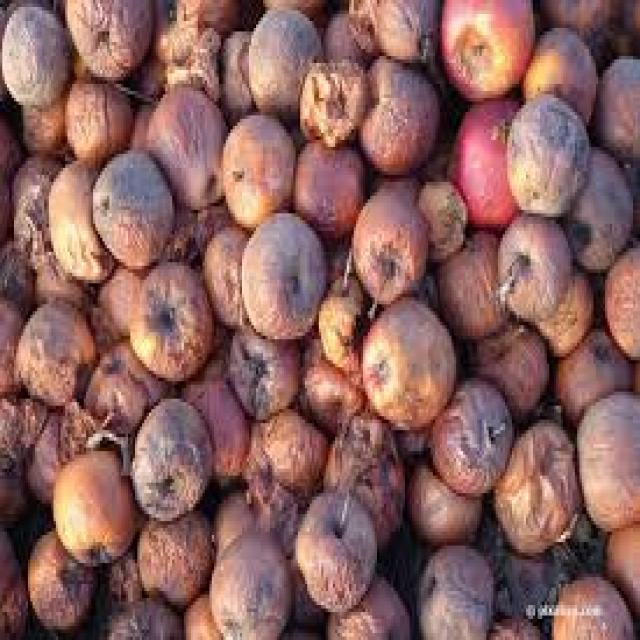organic waste: (0, 0, 638, 637), (359, 290, 456, 427), (493, 416, 578, 556), (124, 388, 216, 514), (294, 476, 379, 612), (119, 259, 214, 378), (323, 406, 402, 549), (426, 371, 514, 496), (142, 87, 230, 210), (479, 514, 582, 619), (44, 441, 138, 556), (240, 203, 321, 336), (349, 178, 428, 312), (89, 147, 174, 266), (446, 91, 516, 227), (505, 98, 589, 210), (205, 528, 291, 637), (437, 0, 535, 94), (356, 52, 435, 168), (575, 384, 638, 524), (10, 297, 96, 399), (179, 350, 247, 476), (81, 336, 163, 440), (244, 7, 319, 119), (221, 108, 293, 224), (44, 158, 114, 276), (247, 402, 326, 504), (412, 538, 493, 636), (561, 144, 628, 262), (460, 314, 544, 406), (135, 507, 214, 602), (552, 329, 626, 430), (402, 444, 480, 539), (223, 314, 298, 412), (60, 0, 151, 80), (521, 21, 591, 122), (494, 214, 566, 312), (24, 524, 96, 622), (296, 136, 366, 235), (436, 231, 500, 339), (0, 0, 63, 105), (547, 570, 638, 637), (65, 70, 130, 161), (296, 60, 366, 144), (303, 336, 363, 426), (7, 154, 60, 255), (323, 574, 408, 636), (591, 49, 638, 161), (316, 269, 366, 371), (242, 448, 296, 542), (347, 0, 435, 56), (23, 406, 70, 507), (198, 217, 244, 318), (533, 276, 591, 354), (158, 24, 221, 94), (600, 521, 638, 637), (151, 0, 235, 52), (212, 479, 274, 549), (602, 234, 638, 354), (93, 262, 144, 332), (102, 594, 184, 636), (417, 175, 463, 248), (30, 242, 84, 298), (0, 521, 26, 637), (533, 0, 612, 38), (0, 392, 44, 458), (214, 31, 249, 112), (0, 231, 35, 308), (321, 4, 368, 59), (0, 293, 23, 391), (98, 556, 144, 602), (21, 101, 65, 147), (322, 234, 358, 290), (258, 0, 328, 28), (179, 588, 219, 636), (616, 154, 638, 241), (56, 402, 100, 444), (391, 416, 431, 462), (0, 465, 28, 518), (282, 605, 328, 637), (614, 0, 638, 56), (491, 616, 549, 636), (0, 168, 14, 238), (0, 122, 19, 172), (626, 353, 638, 388)
